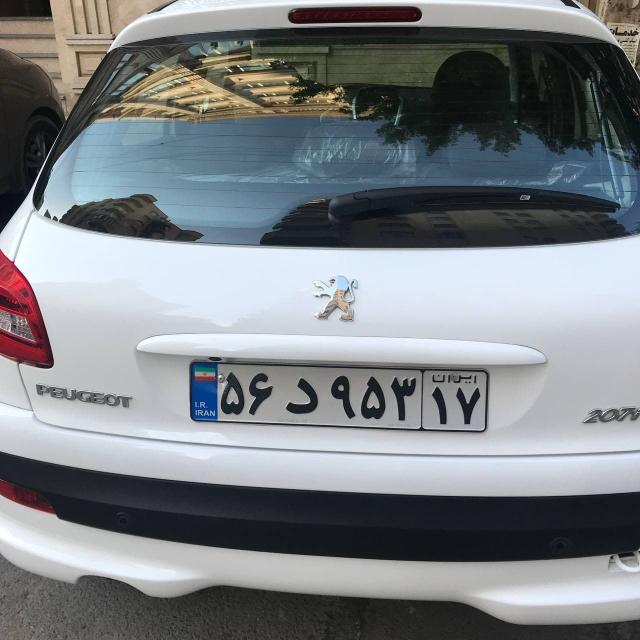Plates: (186, 360, 490, 433)
